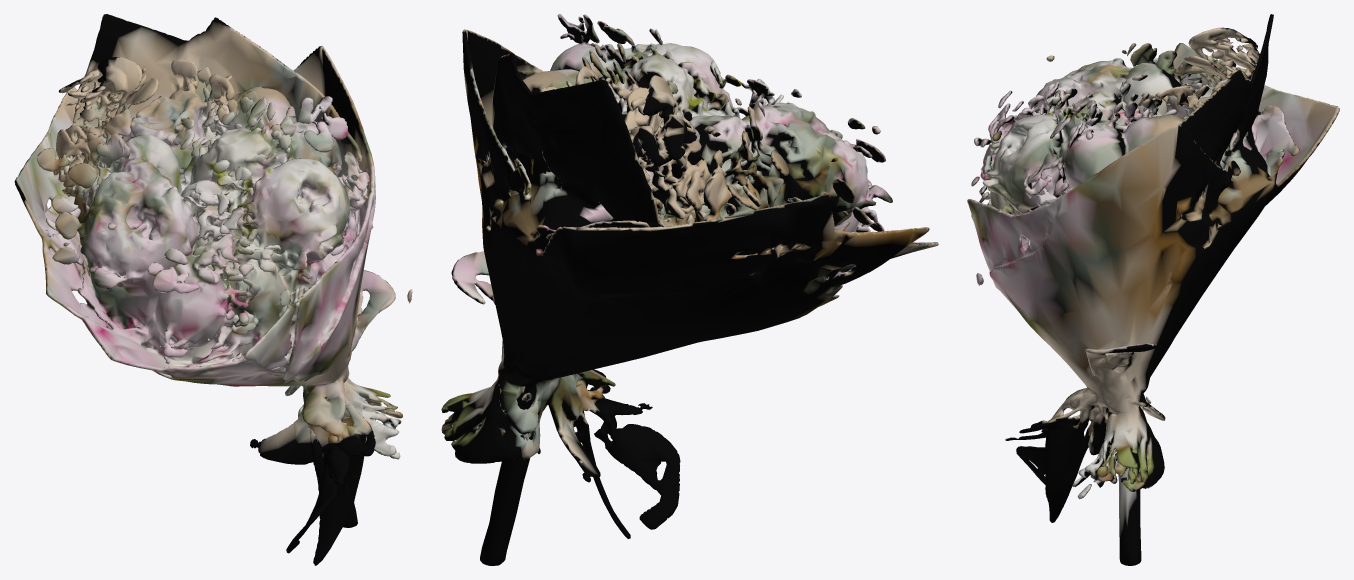
The model's file is bouquet.glb.
3 views of the same model, side by side, from view 1: azimuth 30°, elevation 25°; view 2: azimuth 150°, elevation 25°; view 3: azimuth 270°, elevation 25° (orthographic). The views are drawn at different scales.
Parts seen in each view (by area): view 1: geometry_0; view 2: geometry_0; view 3: geometry_0.
Part boxes in pixels (left/top/right/bottom): geometry_0: left=14, top=14, right=412, bottom=565; geometry_0: left=441, top=14, right=938, bottom=565; geometry_0: left=967, top=14, right=1339, bottom=565.
Bounding box in the file's own units: 0.4327 × 0.55 × 0.395.
